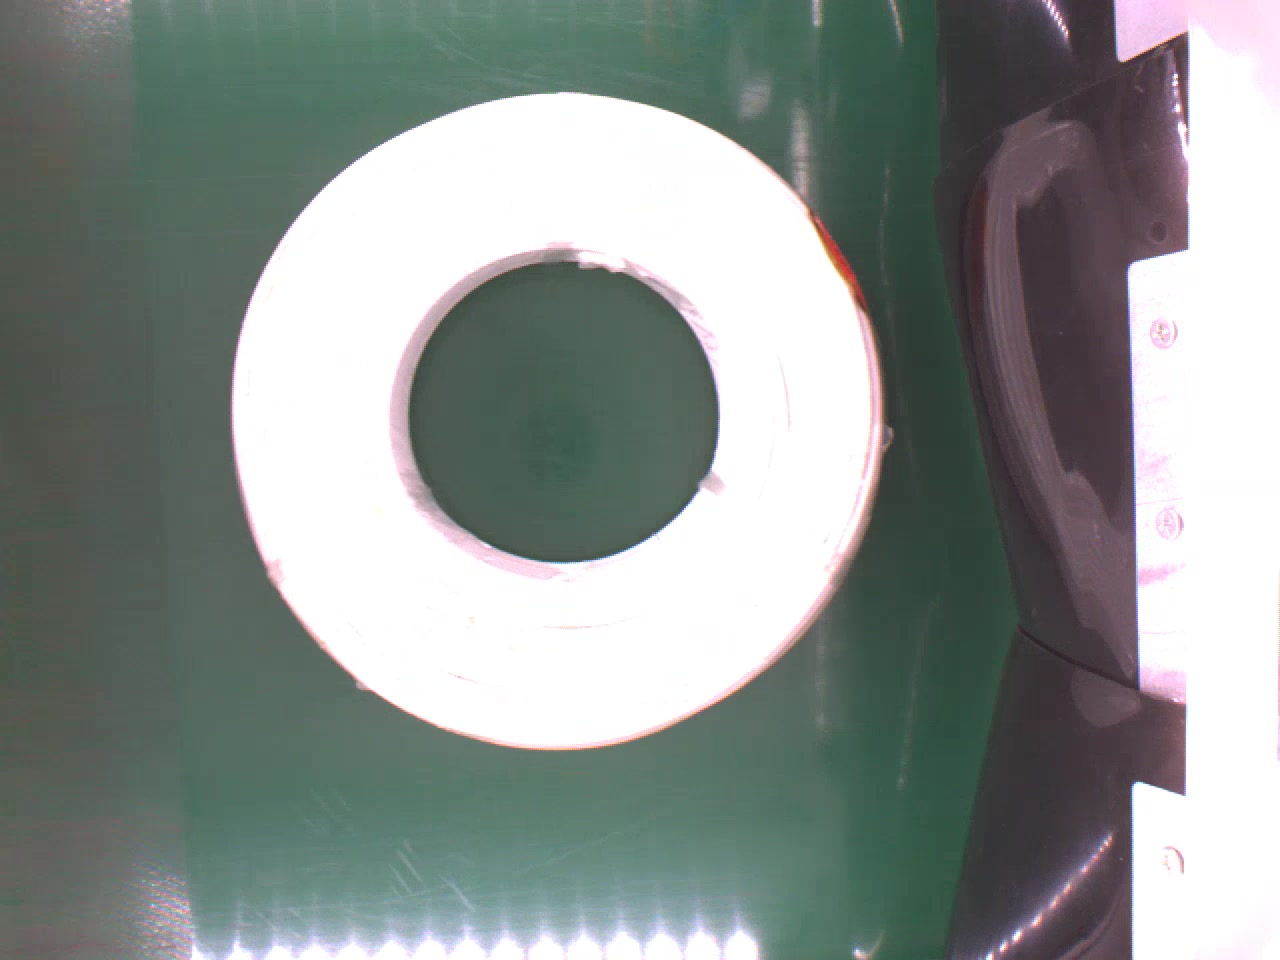white: (221, 83, 901, 756)
